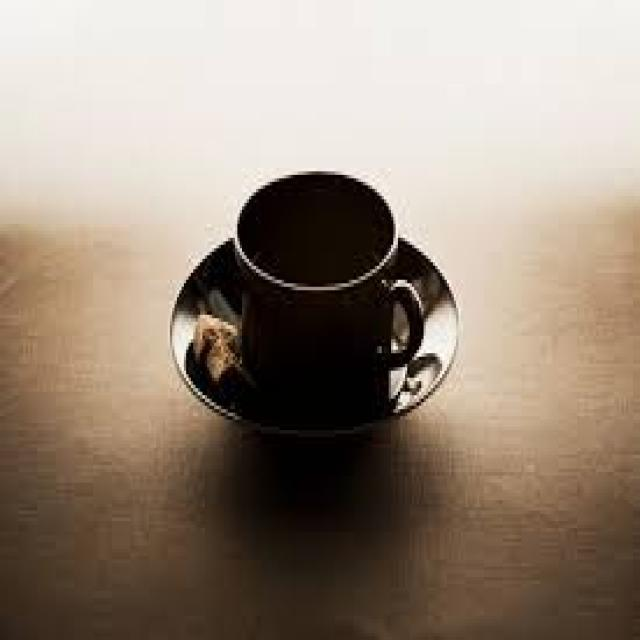taza: (212, 172, 428, 416)
